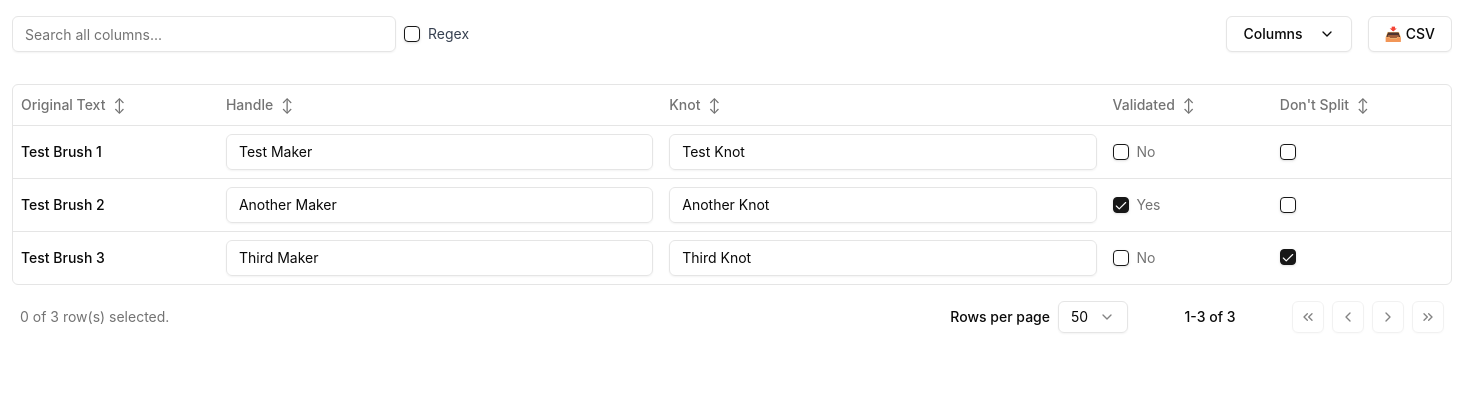
BrushSplitTable › Save/Unsave Behavior › shows unsaved changes count when editing
Expected: the text "unsaved change" is not shown
Note: Make a change
Replace the text in the field showing "Test Maker" with "New Handle": (440, 152) [226,134,653,170]
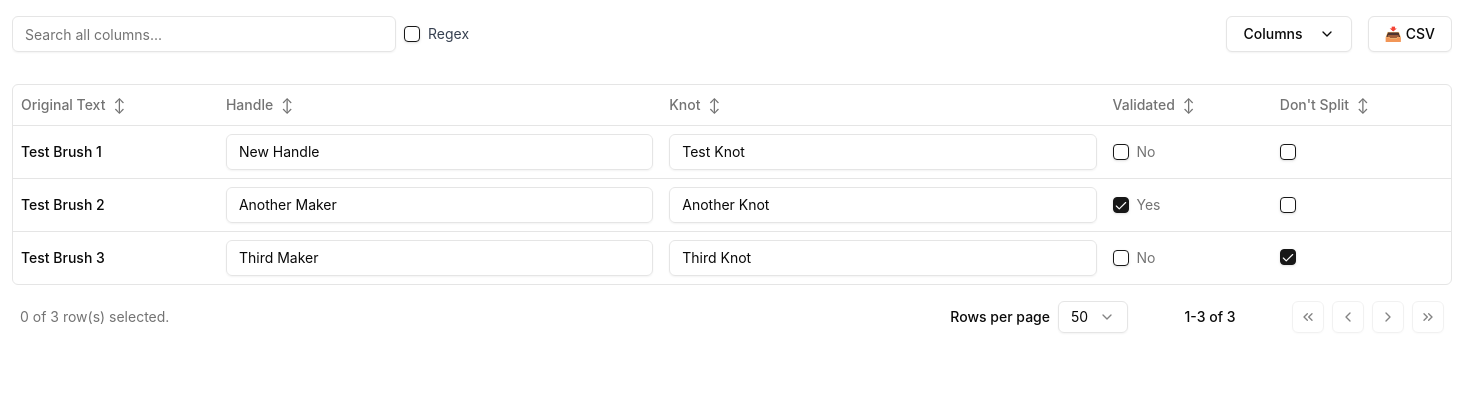
Leave the field showing "Test Maker", box [226,134,653,170]
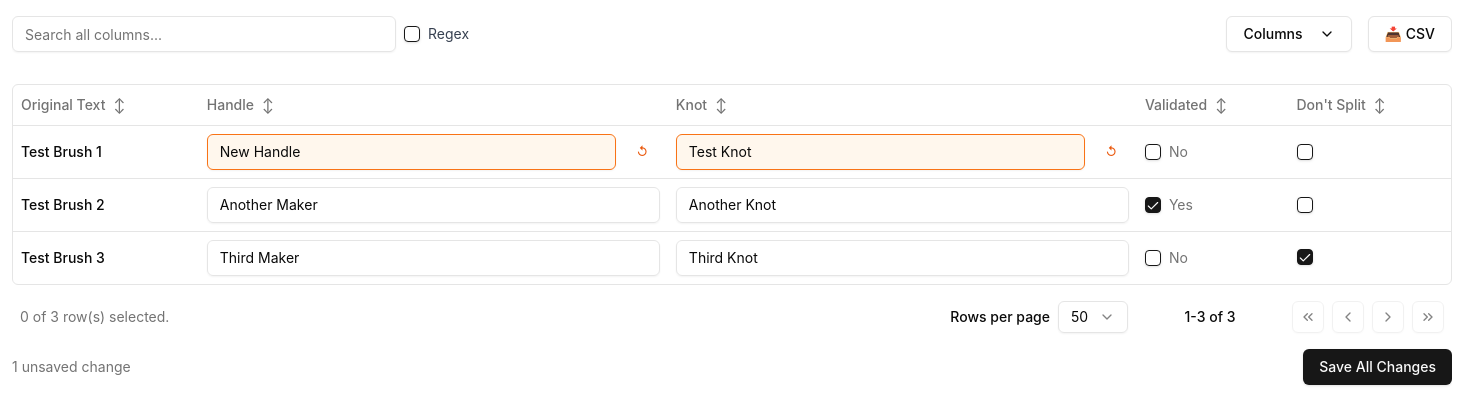
Expected: the text "1 unsaved change" is shown, [12,356,131,376]
